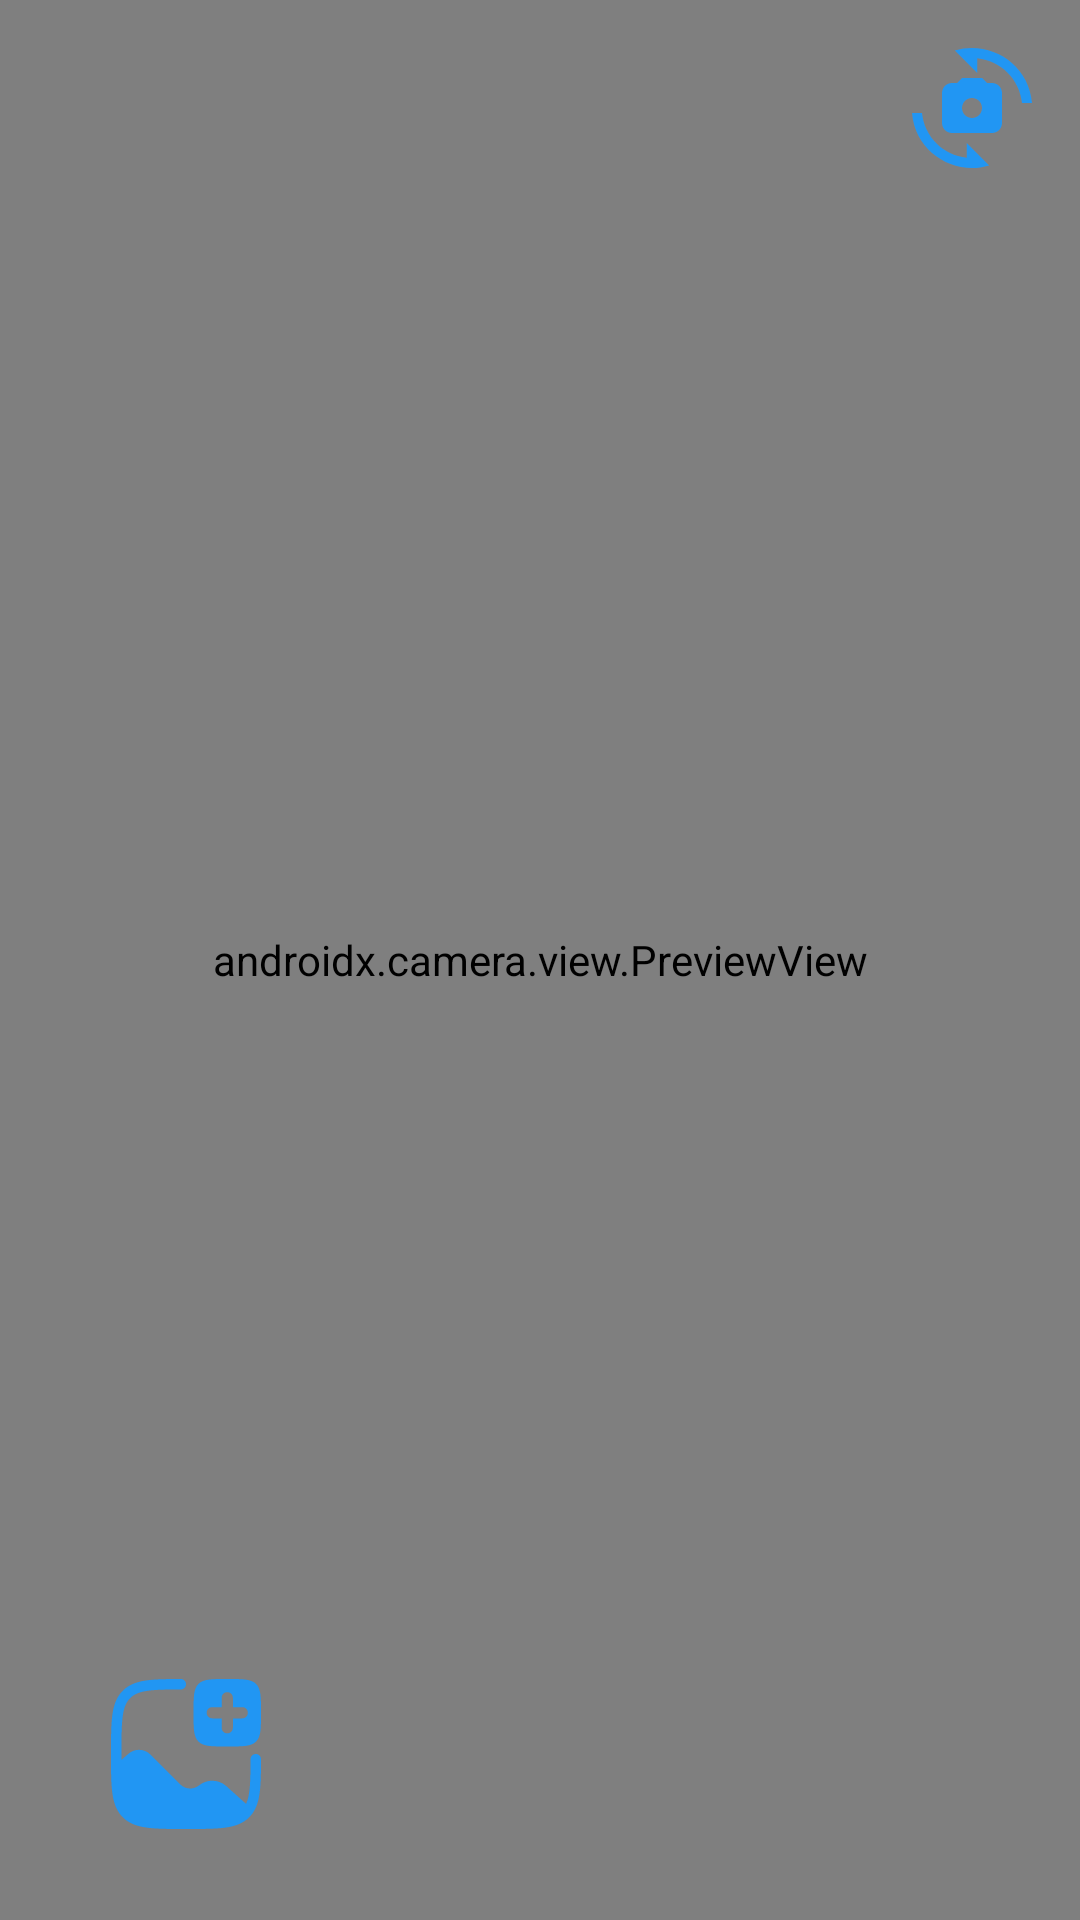

Where to tap for icons on this 1080w x 1920h app screen, as [x,y]:
gallery: [186,1754]
switch camera: [972,108]
